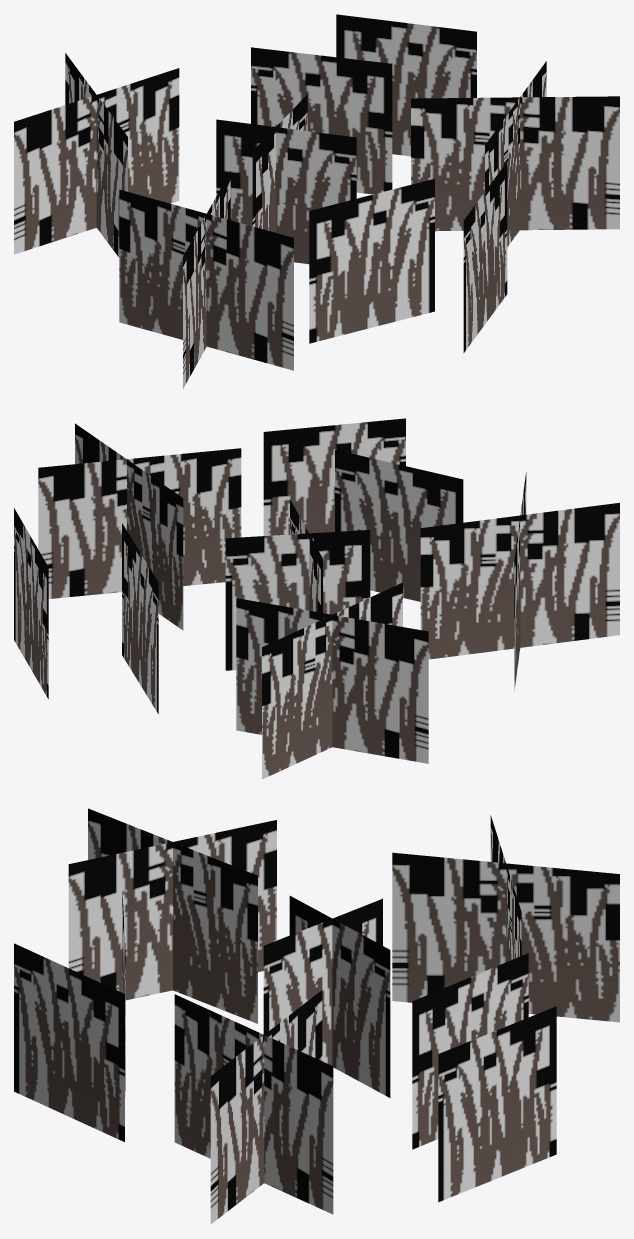
The model's file is Coast Dry Grass.fbx.
The picture shows the model from 3 angles, top to bottom: view 1: azimuth 30°, elevation 25°; view 2: azimuth 150°, elevation 25°; view 3: azimuth 270°, elevation 25°; orthographic projection. The views are drawn at different scales.
Visible parts, largest first — view 1: Dry Grass; view 2: Dry Grass; view 3: Dry Grass.
Boxes of the visible parts, x1,y1,x2,y2 form: Dry Grass: (14, 14, 619, 388); Dry Grass: (14, 418, 619, 779); Dry Grass: (14, 808, 619, 1224).
Size of the model in its own units: 1120 by 289 by 1070.
